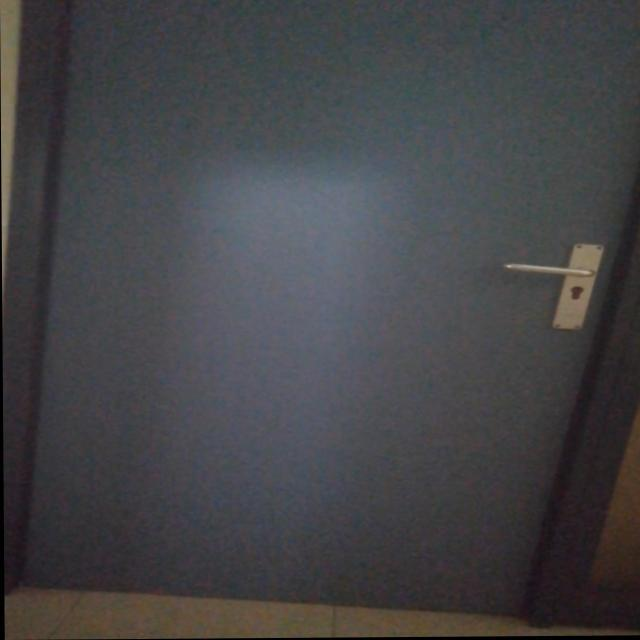door_handle: (496, 260, 599, 281)
